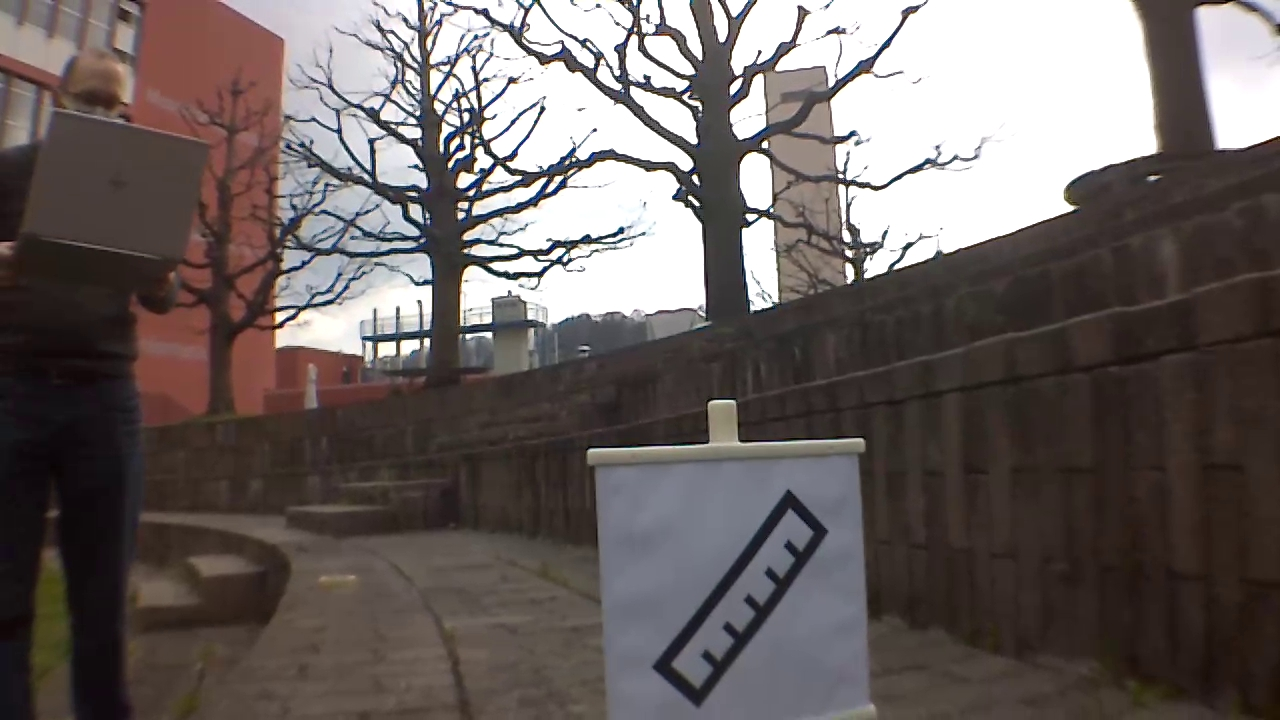ruler: (647, 486, 835, 708)
